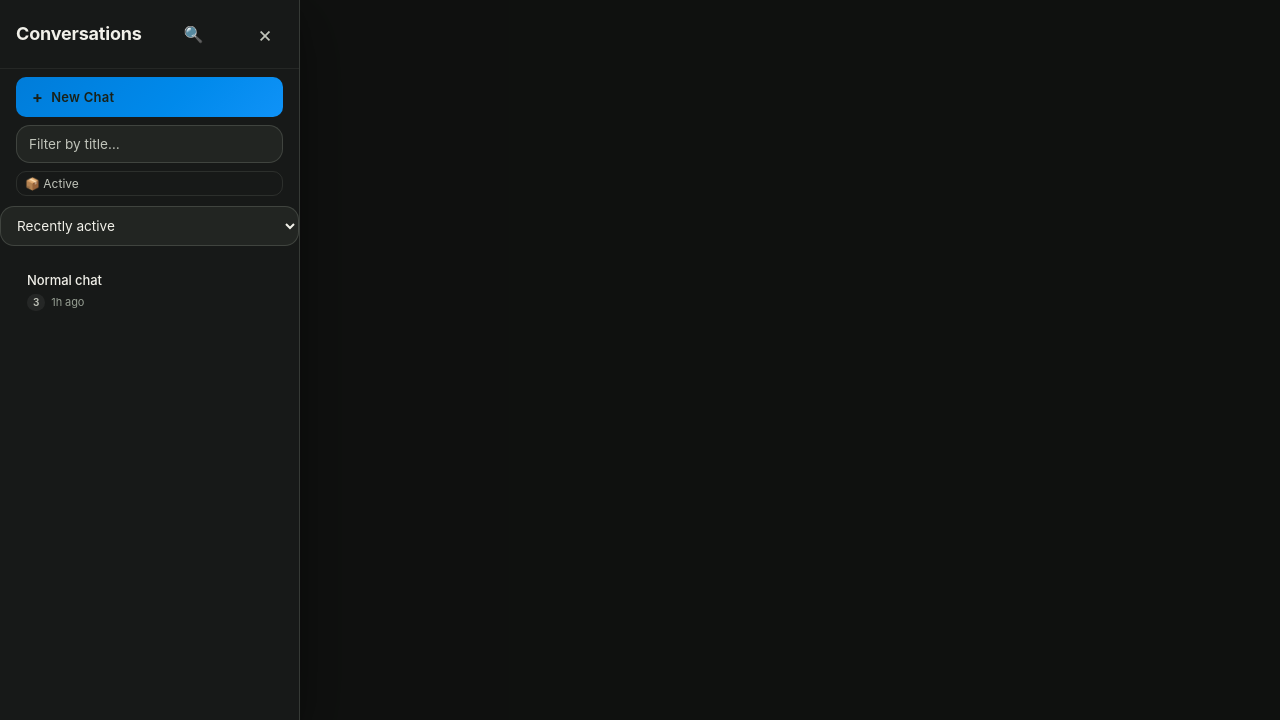
ConversationSidebar — pinning › right-click on conversation shows context menu
This screenshot has width=1280, height=720.
Right-click the element with class "conversation-item" at (64, 280), box 27,272 -> 102,311
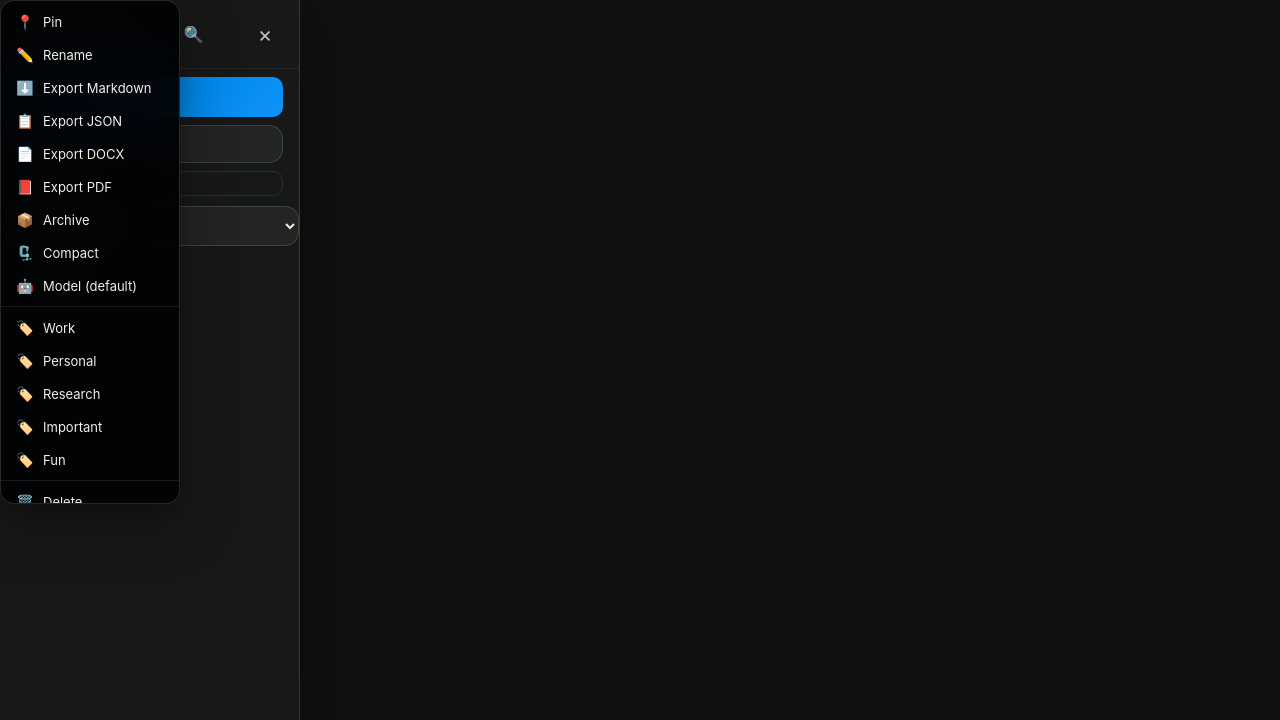
Now the menu item "📍 Pin" is shown, box 1,5 -> 179,38
Now the menu item "✏️ Rename" is shown, box 1,38 -> 179,71
Now the menu item "⬇️ Export Markdown" is shown, box 1,71 -> 179,104
